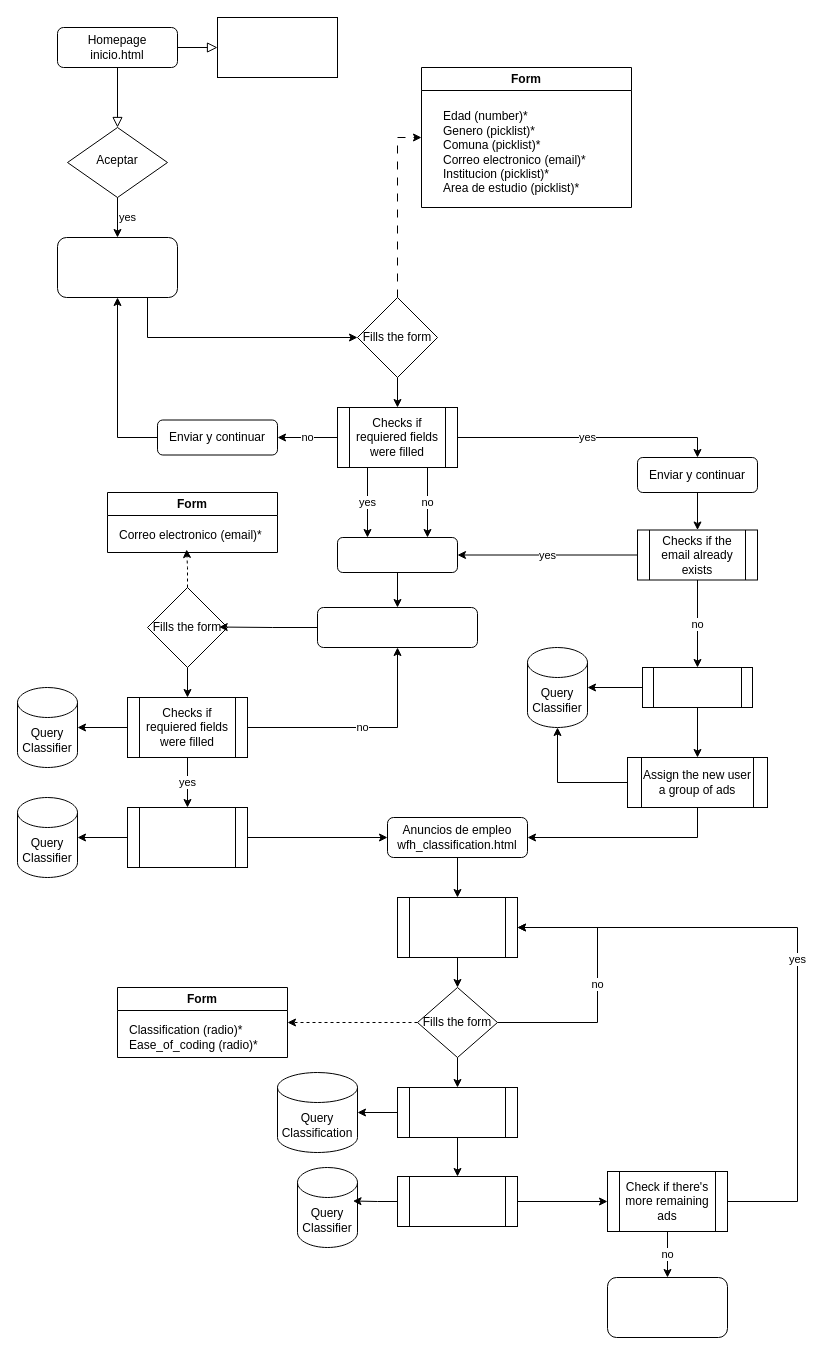
Image size: 823x1355. Some labels were removed from this diagram. The box of each missing label's shape, as (x1, y1, x2, y2) in pixels:
Continuar desde donde lo deje: (336, 536, 458, 572)
Continuar la clasificacion? continue_classification.html: (316, 606, 478, 648)
Creates new user: (642, 666, 752, 708)
Informacion demografica datos_demo.html: (56, 236, 178, 298)
Muchas gracias por tu ayuda despedida.html: (606, 1276, 728, 1338)
Retrieves remaining ads to classify: (126, 806, 248, 868)
Saves the classifier classification: (396, 1086, 518, 1138)
Shows a description of the project and instructions for classifiers: (216, 16, 338, 78)
Shows the remaining ads of the current classifier: (396, 896, 518, 958)
Update the classifier remaining ads: (396, 1176, 518, 1226)
